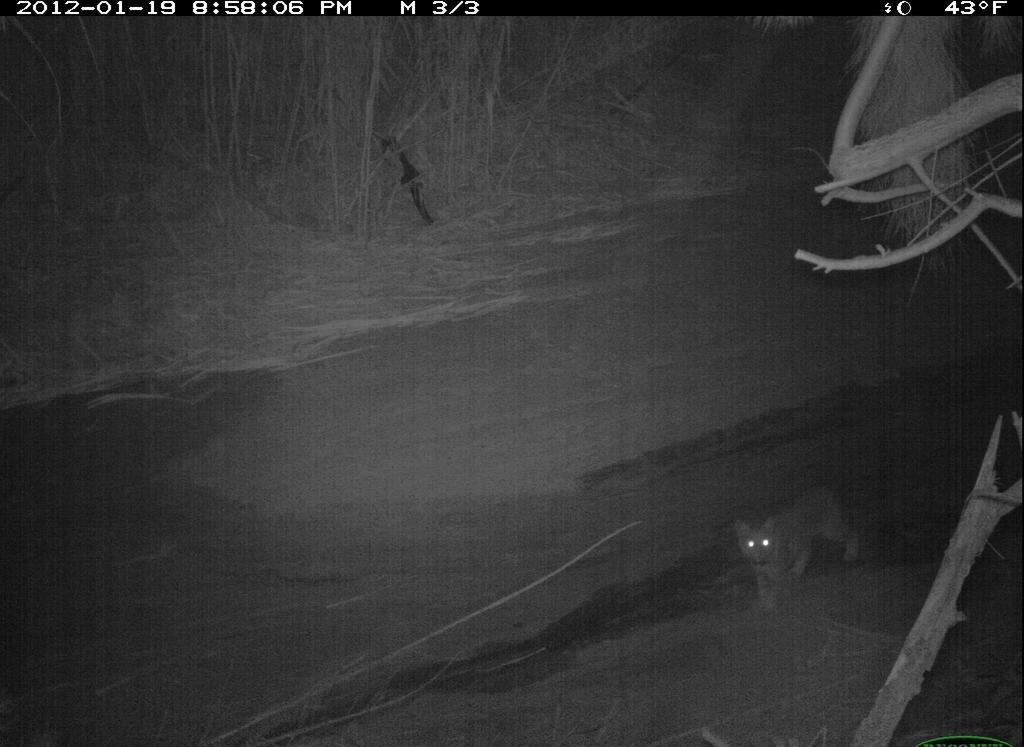bobcat: (729, 478, 872, 624)
